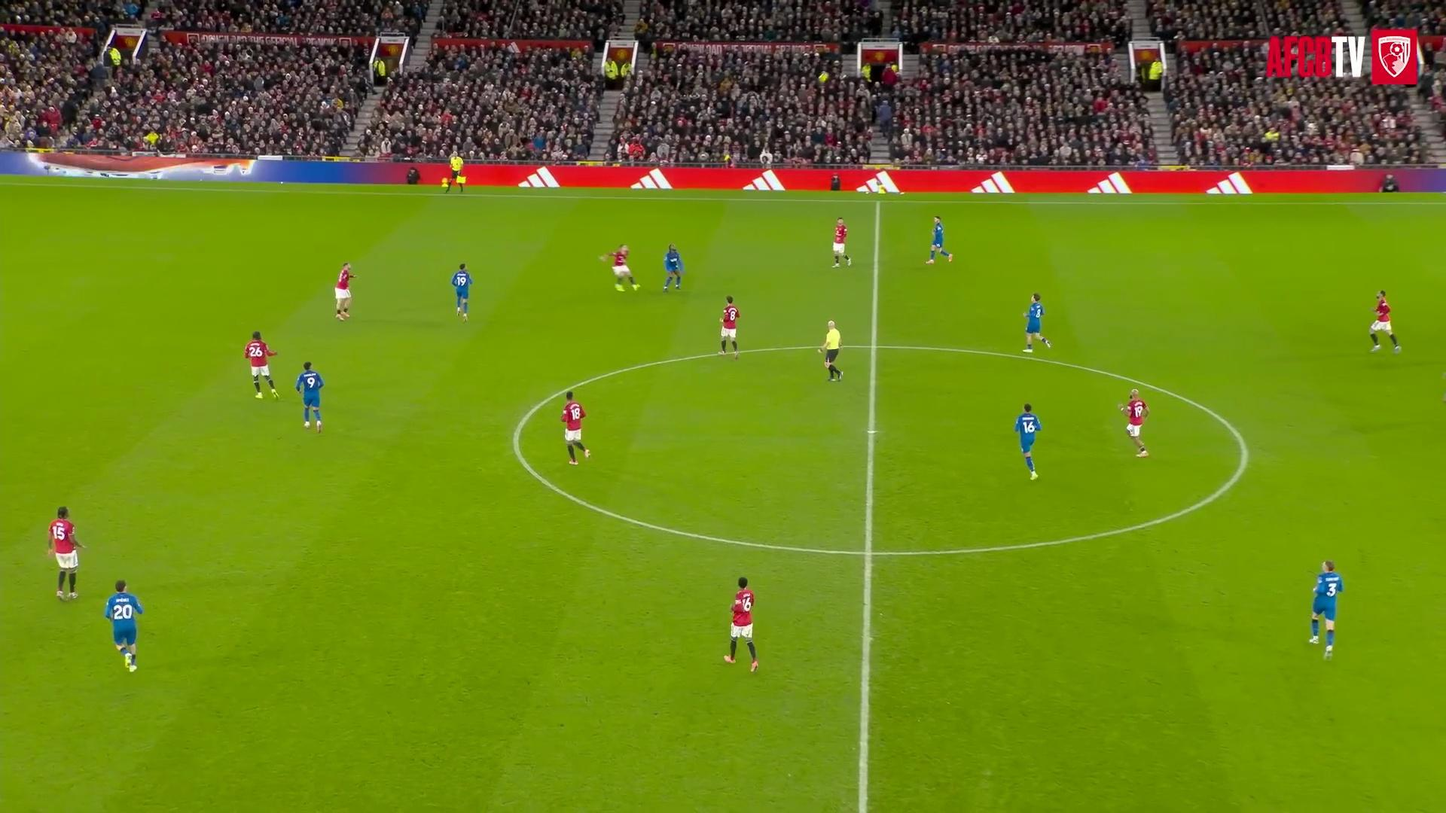player: (105, 580, 142, 671), (47, 507, 83, 600), (1309, 561, 1343, 659), (725, 577, 758, 671), (245, 331, 278, 398), (561, 391, 590, 464), (295, 361, 324, 433), (1119, 389, 1149, 457), (1014, 403, 1040, 480), (1370, 290, 1400, 352), (600, 244, 639, 290), (1023, 293, 1051, 352), (926, 216, 953, 263), (719, 296, 739, 359), (451, 263, 471, 321), (334, 263, 354, 319), (833, 218, 851, 267), (664, 245, 683, 291)
referee: (819, 321, 842, 381), (444, 154, 464, 193)
